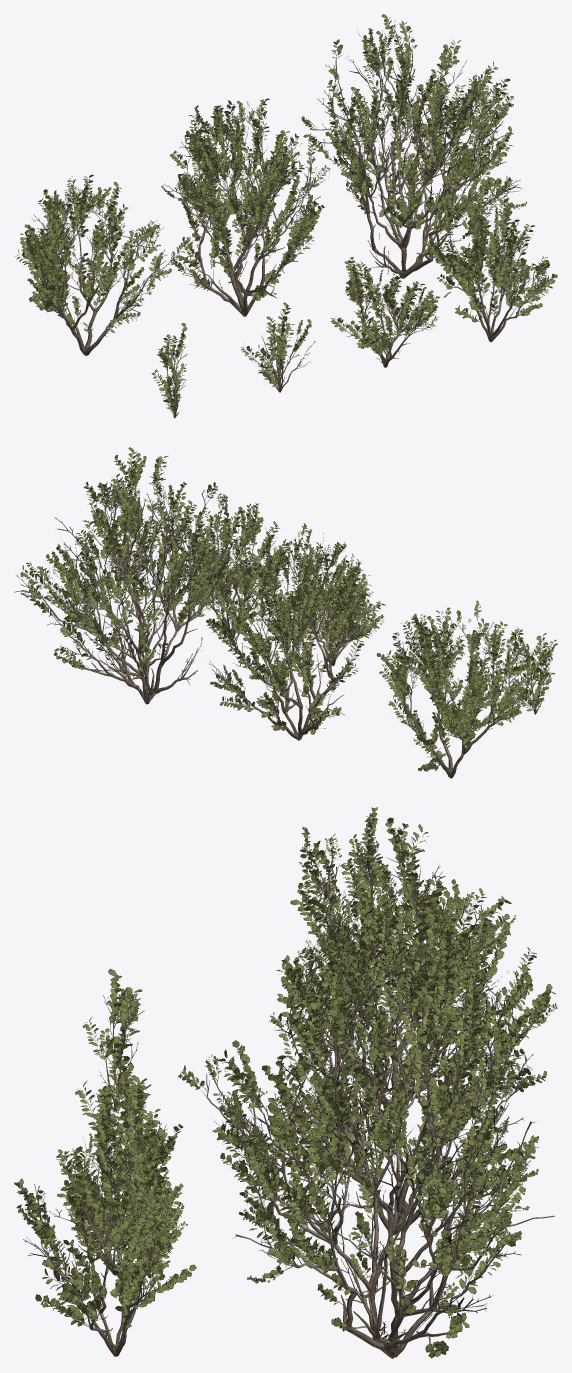
Rendered from searsia_lucida.glb.
The picture shows the model from 3 angles, top to bottom: view 1: azimuth 30°, elevation 25°; view 2: azimuth 150°, elevation 25°; view 3: azimuth 270°, elevation 25°; orthographic projection. The views are drawn at different scales.
Visible parts, largest first — view 1: searsia_lucida_a_LOD0, searsia_lucida_b_LOD0, searsia_lucida_c_LOD0, searsia_lucida_d_LOD0, searsia_lucida_e_LOD0, searsia_lucida_f_LOD0, searsia_lucida_g_LOD0; view 2: searsia_lucida_a_LOD0, searsia_lucida_b_LOD0, searsia_lucida_c_LOD0, searsia_lucida_d_LOD0, searsia_lucida_e_LOD0, searsia_lucida_g_LOD0, searsia_lucida_f_LOD0; view 3: searsia_lucida_a_LOD0, searsia_lucida_b_LOD0, searsia_lucida_d_LOD0, searsia_lucida_c_LOD0, searsia_lucida_e_LOD0, searsia_lucida_g_LOD0, searsia_lucida_f_LOD0.
Part boxes in pixels (left/top/right/bottom): searsia_lucida_a_LOD0: left=301, top=14, right=526, bottom=278; searsia_lucida_b_LOD0: left=161, top=98, right=330, bottom=316; searsia_lucida_c_LOD0: left=14, top=174, right=196, bottom=355; searsia_lucida_d_LOD0: left=423, top=180, right=557, bottom=342; searsia_lucida_e_LOD0: left=331, top=257, right=451, bottom=367; searsia_lucida_f_LOD0: left=241, top=302, right=315, bottom=392; searsia_lucida_g_LOD0: left=151, top=323, right=187, bottom=418; searsia_lucida_a_LOD0: left=14, top=447, right=269, bottom=704; searsia_lucida_b_LOD0: left=206, top=523, right=373, bottom=740; searsia_lucida_c_LOD0: left=376, top=600, right=557, bottom=778; searsia_lucida_d_LOD0: left=171, top=496, right=295, bottom=639; searsia_lucida_e_LOD0: left=284, top=567, right=385, bottom=665; searsia_lucida_g_LOD0: left=511, top=631, right=554, bottom=714; searsia_lucida_f_LOD0: left=400, top=613, right=465, bottom=686; searsia_lucida_a_LOD0: left=178, top=953, right=554, bottom=1358; searsia_lucida_b_LOD0: left=269, top=881, right=557, bottom=1235; searsia_lucida_d_LOD0: left=14, top=1108, right=196, bottom=1356; searsia_lucida_c_LOD0: left=277, top=807, right=515, bottom=1112; searsia_lucida_e_LOD0: left=49, top=1071, right=183, bottom=1275; searsia_lucida_g_LOD0: left=82, top=969, right=144, bottom=1110; searsia_lucida_f_LOD0: left=75, top=1078, right=165, bottom=1192.
Bounding box in the file's own units: 4.78 × 2.33 × 2.84.
2 materials, 2 textured.
